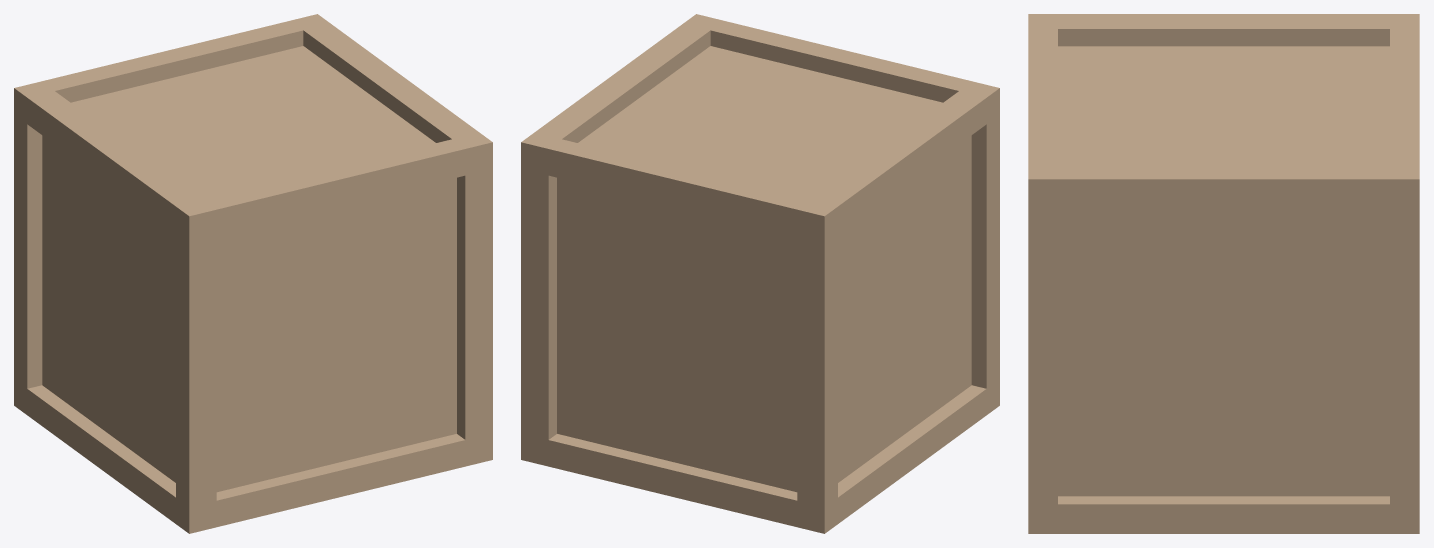
File: Crate_01.fbx
3 renders of one model, left to right at view 1: azimuth 30°, elevation 25°; view 2: azimuth 150°, elevation 25°; view 3: azimuth 270°, elevation 25°, orthographic. The views are drawn at different scales.
Visible parts, largest first — view 1: pCube127; view 2: pCube127; view 3: pCube127.
Part boxes in pixels (x1=…): pCube127: x1=14, y1=14, x2=492, y2=533; pCube127: x1=521, y1=14, x2=999, y2=533; pCube127: x1=1028, y1=14, x2=1419, y2=533.
Bounding box in the file's own units: 0.3444 × 0.3444 × 0.3444.
